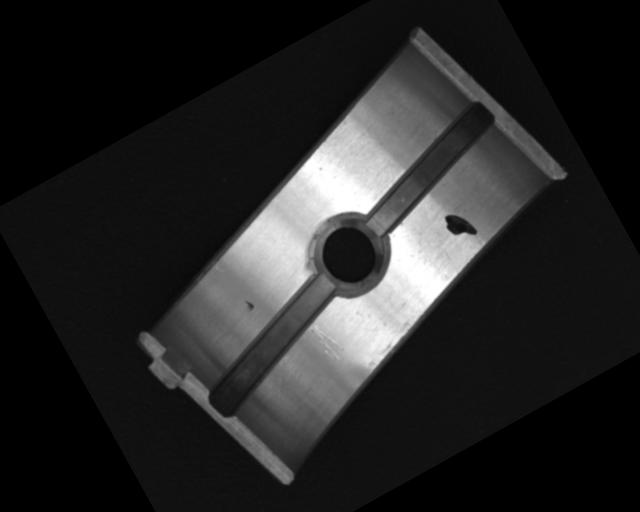blot: (440, 205, 479, 245)
bruise: (242, 297, 256, 312)
gap: (183, 269, 363, 419), (342, 97, 515, 235)
hole: (299, 204, 394, 303)
nick: (309, 318, 349, 366)
